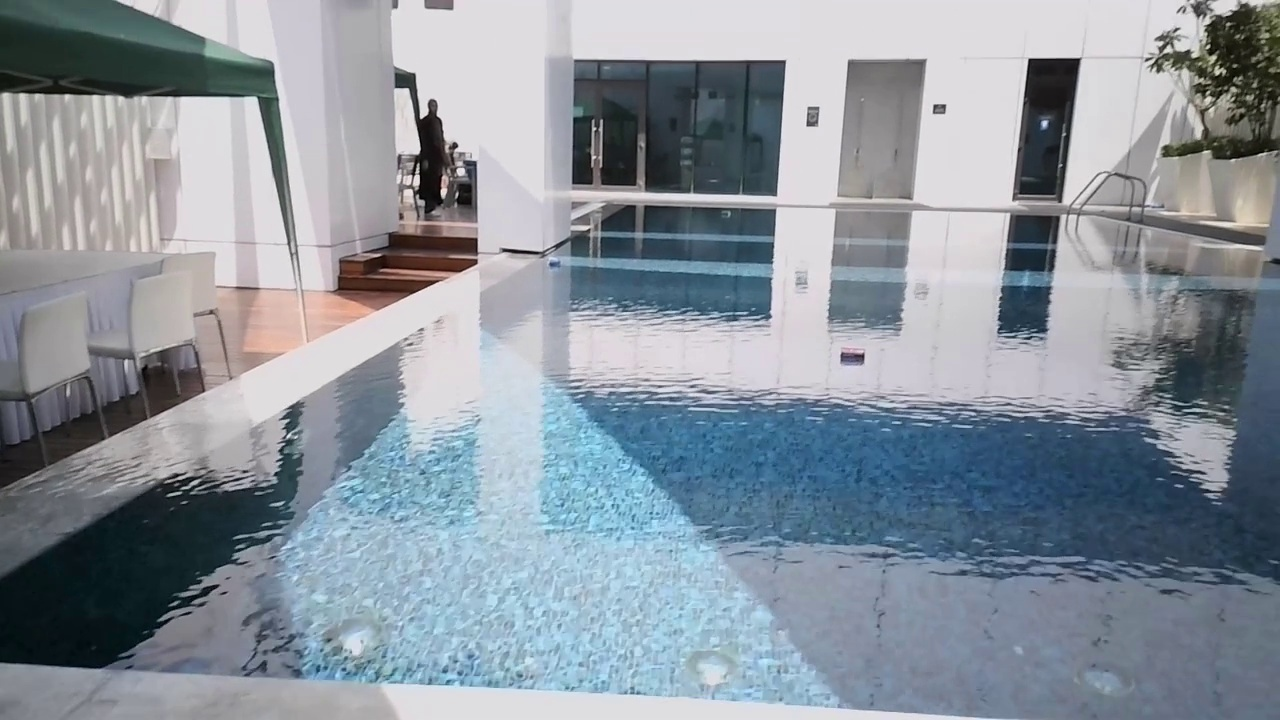debris: (838, 340, 869, 368), (545, 253, 563, 271), (716, 207, 732, 219)
